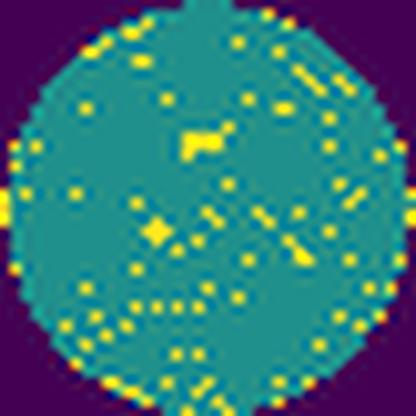Loc: (180, 130, 227, 165), (141, 214, 171, 245)
